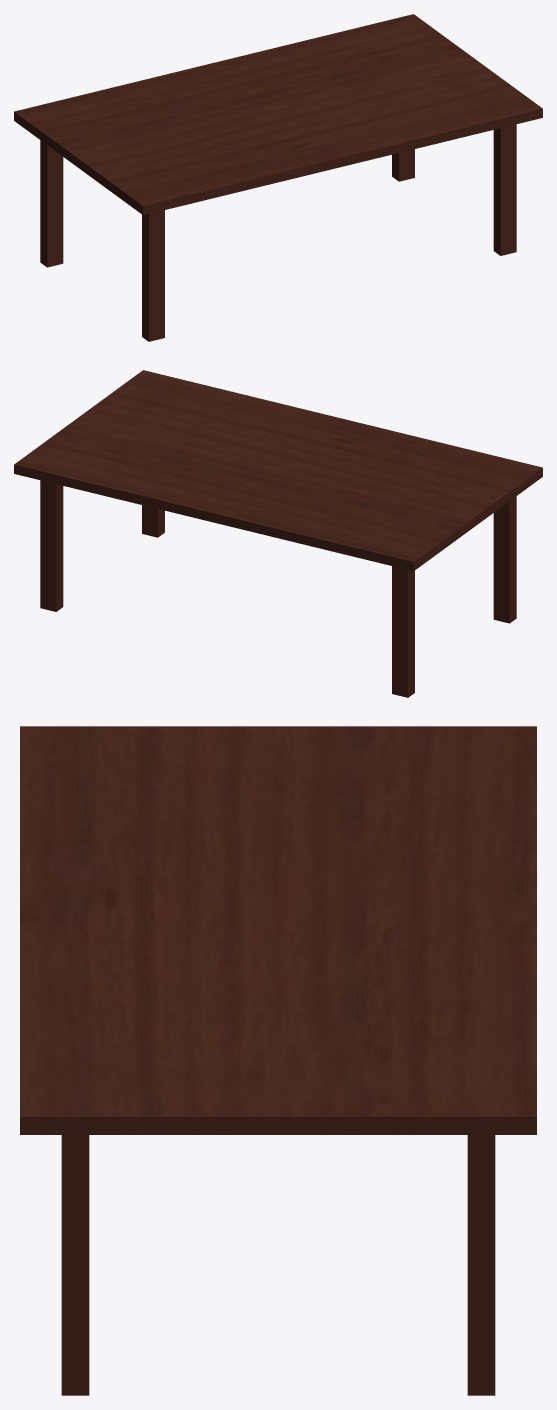
The model's file is table01.obj.
The picture shows the model from 3 angles, top to bottom: view 1: azimuth 30°, elevation 25°; view 2: azimuth 150°, elevation 25°; view 3: azimuth 270°, elevation 25°; orthographic projection. The views are drawn at different scales.
Parts seen in each view (by area): view 1: table01; view 2: table01; view 3: table01.
Part boxes in pixels (box(x1,y1,x2,y2)): table01: box(14, 14, 542, 341); table01: box(14, 370, 542, 697); table01: box(20, 726, 536, 1395).
Size of the model in its own units: 100 by 35.2 by 56.
Materials: 1 (1 with a texture image).
